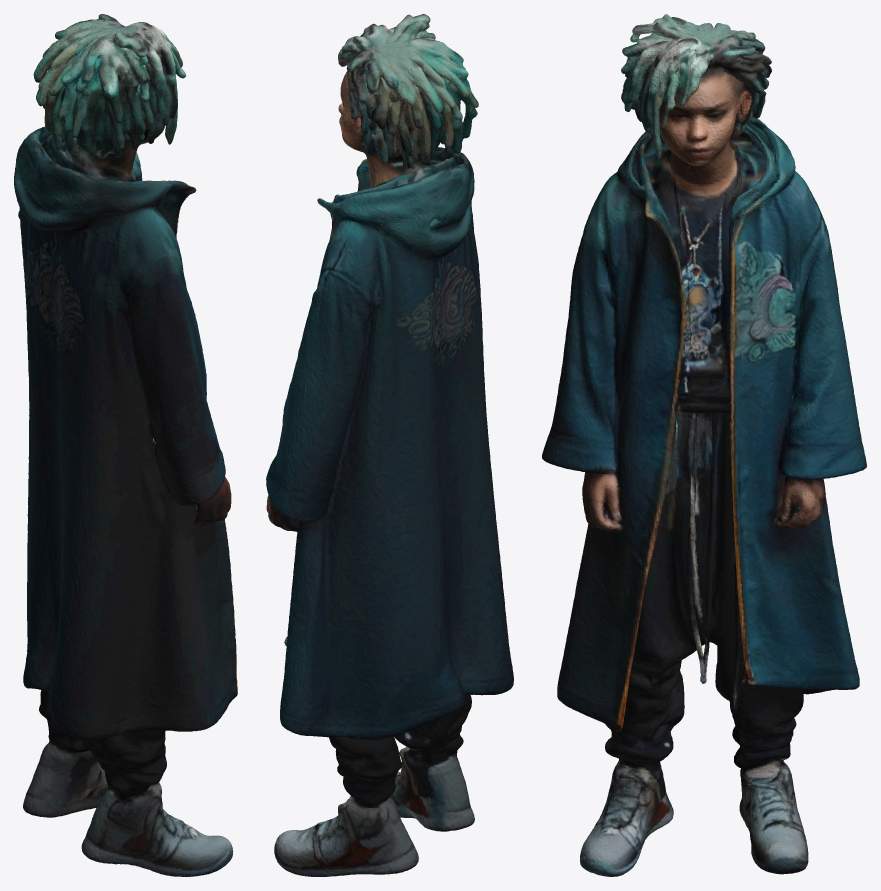
Rendered from modelo25.glb.
The picture shows the model from 3 angles, left to right: view 1: azimuth 30°, elevation 25°; view 2: azimuth 150°, elevation 25°; view 3: azimuth 270°, elevation 25°; orthographic projection.
Parts seen in each view (by area): view 1: tripo_node_08e33d89-6a8f-442d-aab2-76fe45445ae1; view 2: tripo_node_08e33d89-6a8f-442d-aab2-76fe45445ae1; view 3: tripo_node_08e33d89-6a8f-442d-aab2-76fe45445ae1.
Part boxes in pixels (<box>): tripo_node_08e33d89-6a8f-442d-aab2-76fe45445ae1: <box>14,14,237,876</box>; tripo_node_08e33d89-6a8f-442d-aab2-76fe45445ae1: <box>266,14,513,876</box>; tripo_node_08e33d89-6a8f-442d-aab2-76fe45445ae1: <box>542,14,866,876</box>.
Bounding box in the file's own units: 0.2198 × 1 × 0.3556.
Materials: 1 (1 with a texture image).
